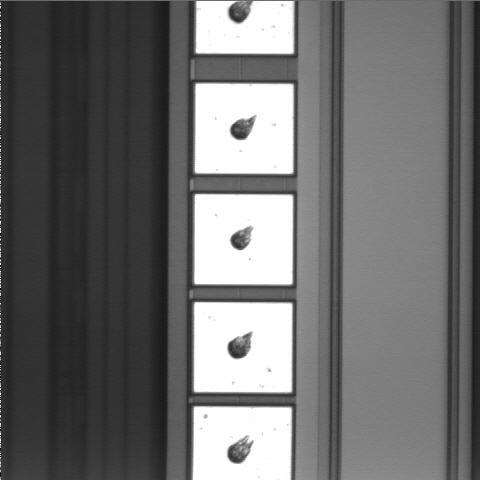pad: (194, 194, 293, 285), (195, 83, 293, 174), (194, 302, 292, 392)
